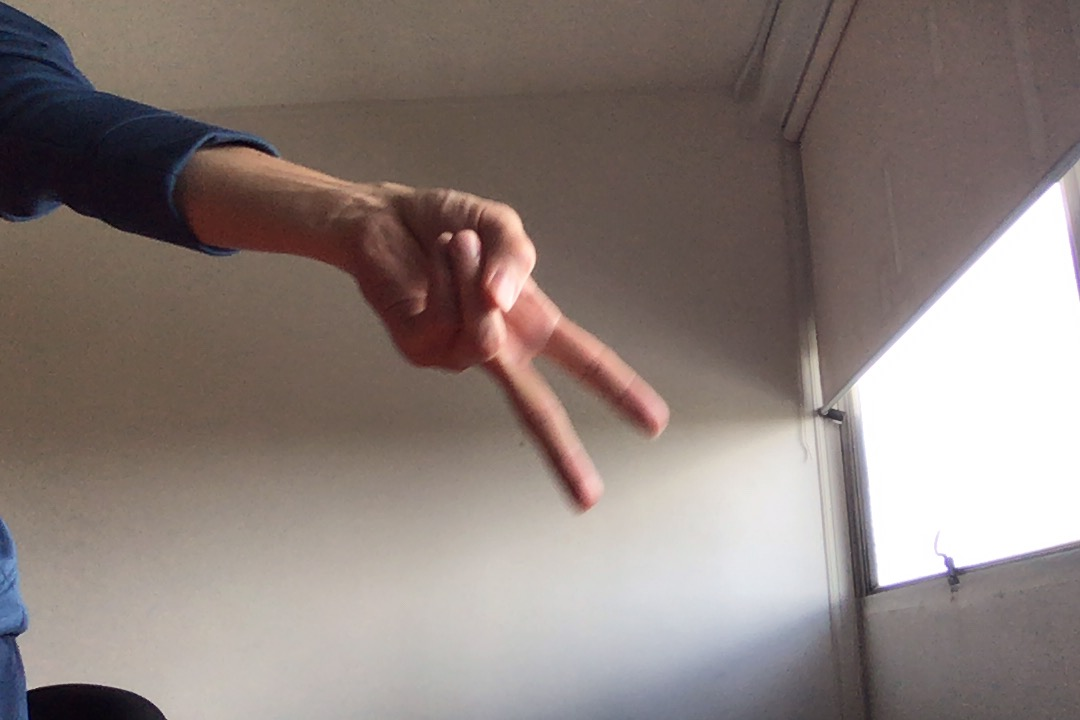peacesign: (357, 170, 680, 524)
